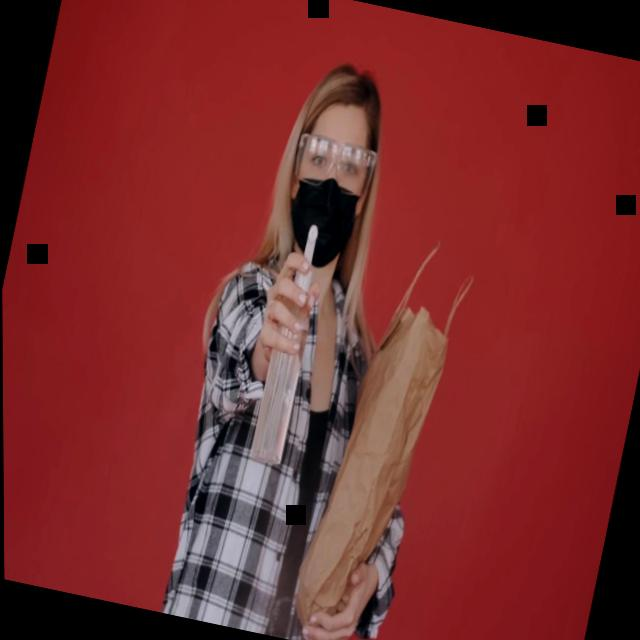Mask: (278, 115, 374, 276)
